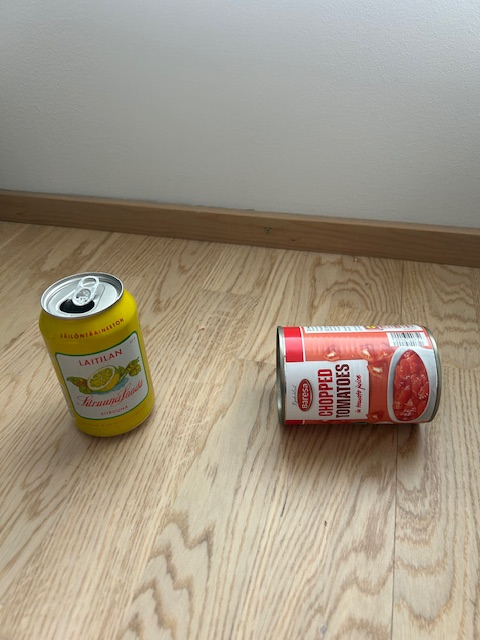Konservburk: (277, 323, 442, 426)
Pantburk: (39, 271, 155, 437)
